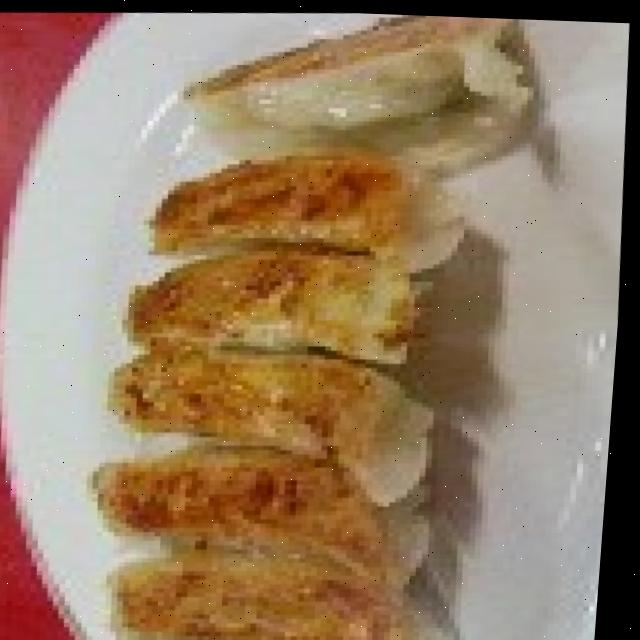带馅早点: (80, 3, 575, 640)
